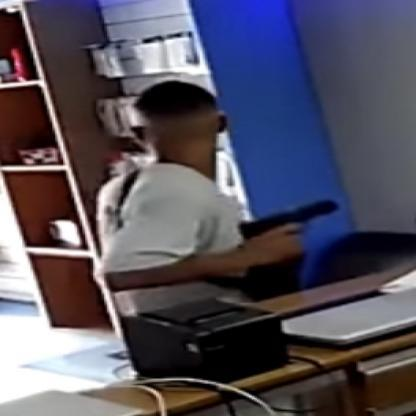weapon: (236, 196, 343, 248)
